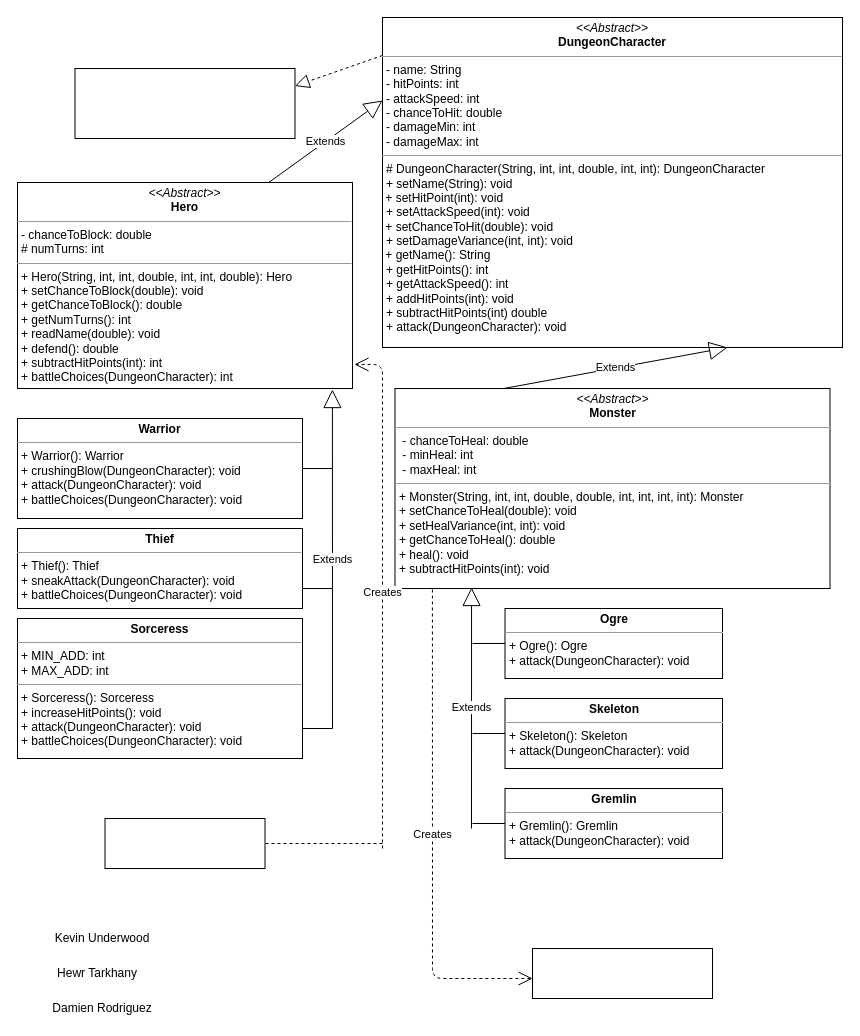
Some shapes in this 860 by 1036 pixel diagram are drawn without their labels. Here are the shapes that lost their labels. From the top down, the centre of each, then its label:
At [184,103]: "<<Interface>> Attack + attack(DungeonCharacter): void".
At [184,843]: "HeroFactory + createHero(int): Hero".
At [622,973]: "MonsterFactory + createMonster(int): Hero".
